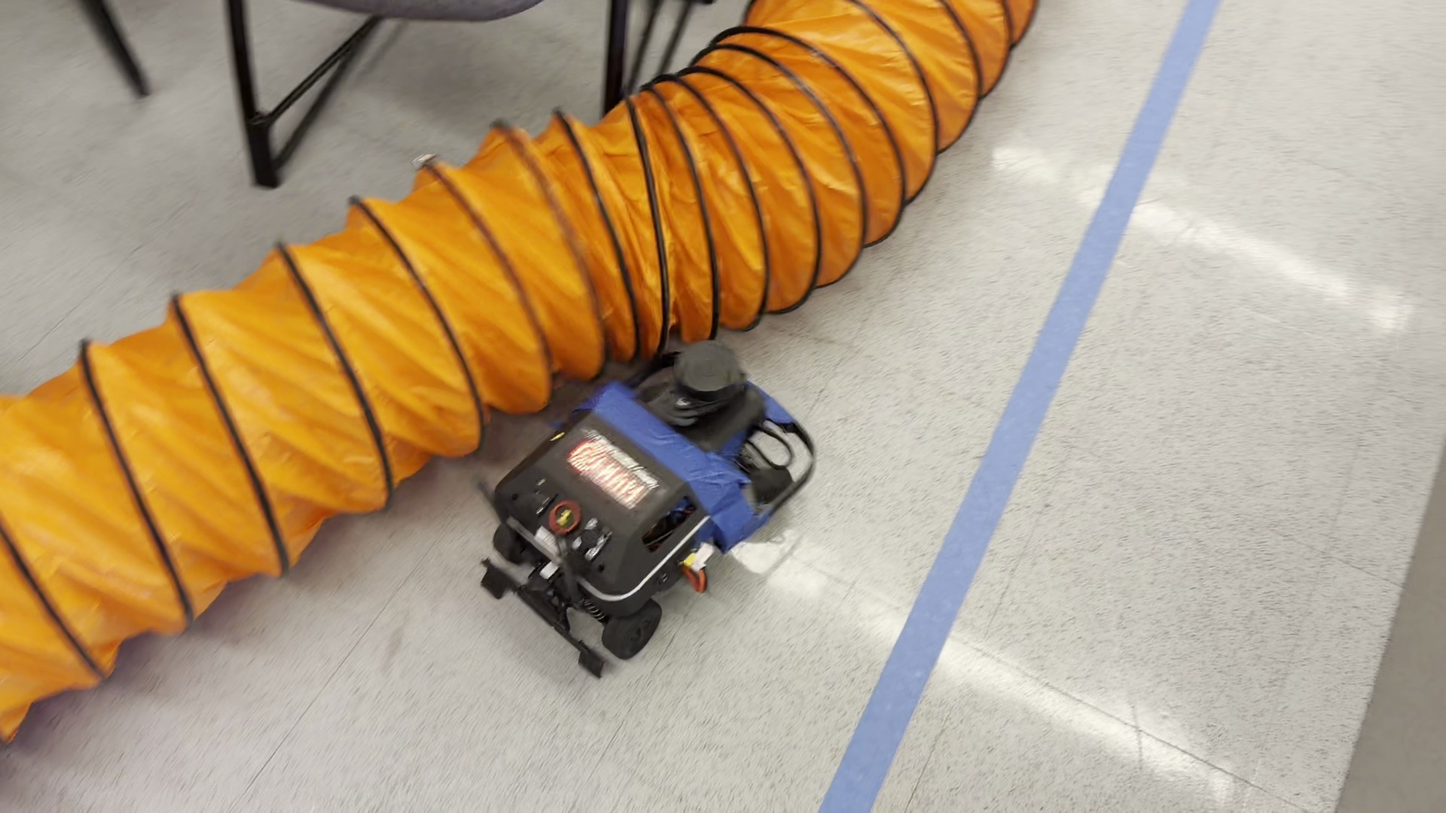racecar: (477, 335, 814, 674)
